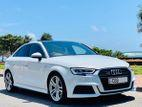car: (4, 40, 136, 103)
